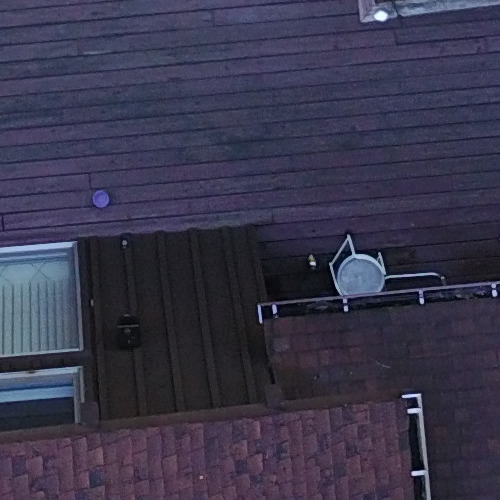container: (83, 187, 115, 212)
no larvae: (81, 185, 113, 210)
